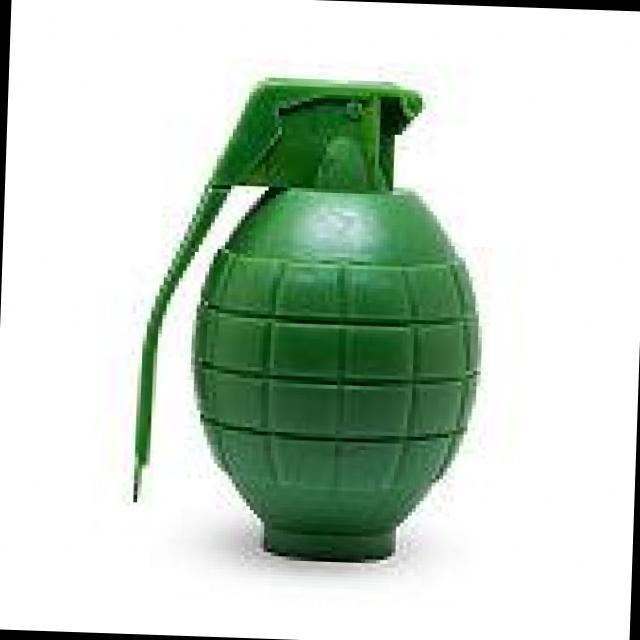grenade: (117, 55, 504, 576)
